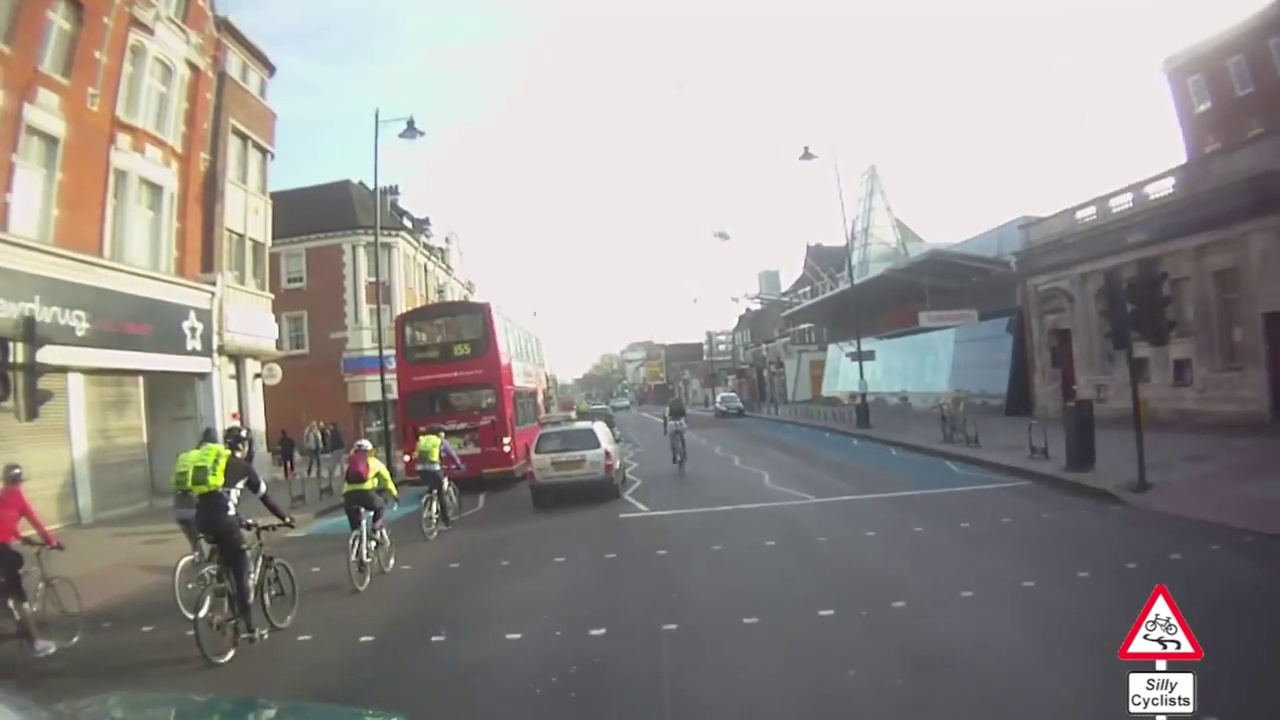cyclist_back: (187, 413, 308, 665), (340, 434, 405, 590), (415, 423, 468, 547), (657, 392, 698, 478)
